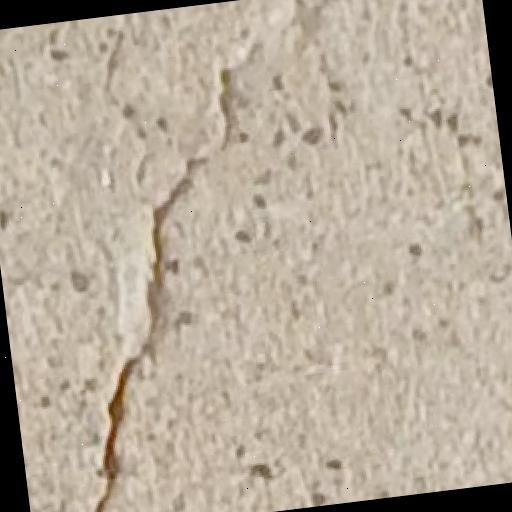spalling: (79, 66, 262, 512)
